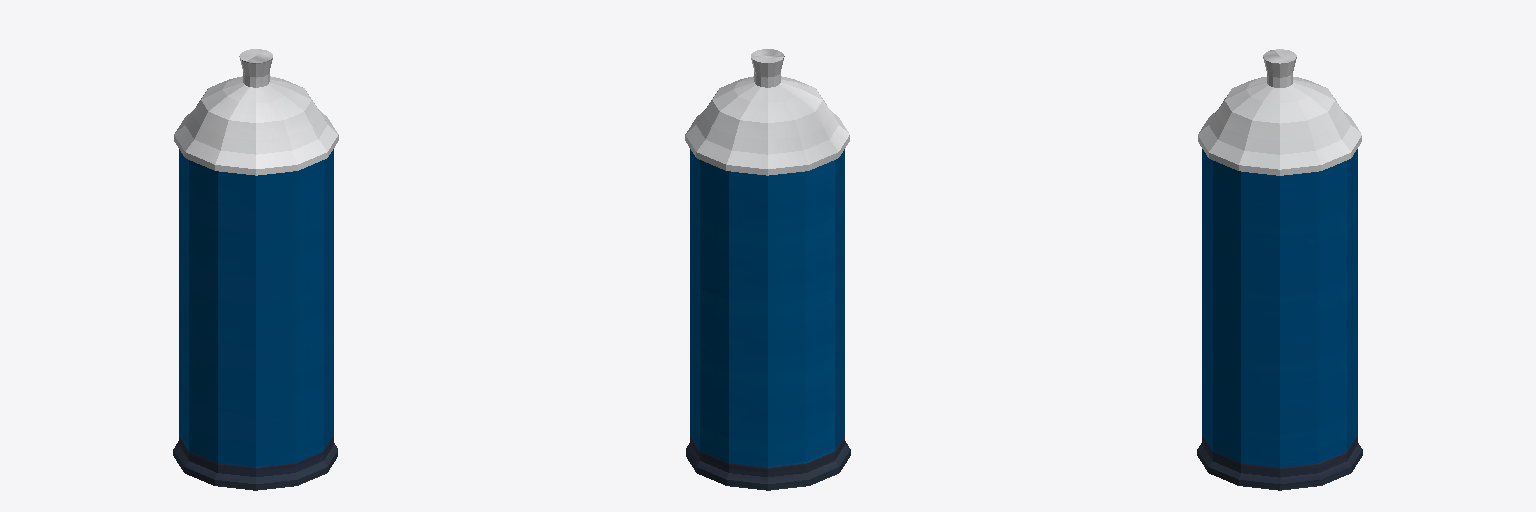
3 renders of one model, left to right at view 1: azimuth 30°, elevation 25°; view 2: azimuth 150°, elevation 25°; view 3: azimuth 270°, elevation 25°, orthographic.
Visible parts, largest first — view 1: Barbercide.obj; view 2: Barbercide.obj; view 3: Barbercide.obj.
Part boxes in pixels (left/top/right/bottom): Barbercide.obj: left=173, top=49, right=338, bottom=490; Barbercide.obj: left=685, top=49, right=850, bottom=490; Barbercide.obj: left=1197, top=49, right=1362, bottom=490.
Size of the model in its own units: 4.47 by 11.91 by 4.46.
Materials: 1 (1 with a texture image).